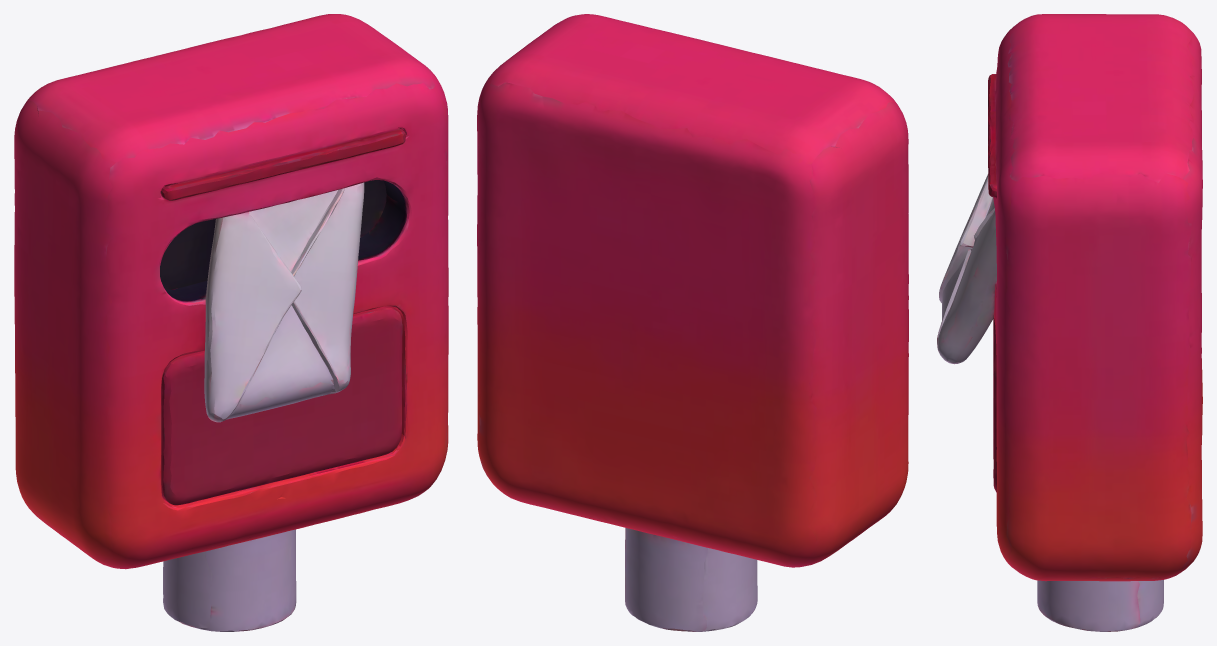
File: postbox.glb
3 renders of one model, left to right at view 1: azimuth 30°, elevation 25°; view 2: azimuth 150°, elevation 25°; view 3: azimuth 270°, elevation 25°, orthographic. The views are drawn at different scales.
Visible parts, largest first — view 1: Mesh; view 2: Mesh; view 3: Mesh.
Boxes of the visible parts, bbox=[...] form: Mesh: bbox=[14, 14, 448, 631]; Mesh: bbox=[477, 14, 908, 631]; Mesh: bbox=[937, 14, 1202, 631].
Size of the model in its own units: 0.7107 by 1 by 0.4592.
Materials: 1 (1 with a texture image).
